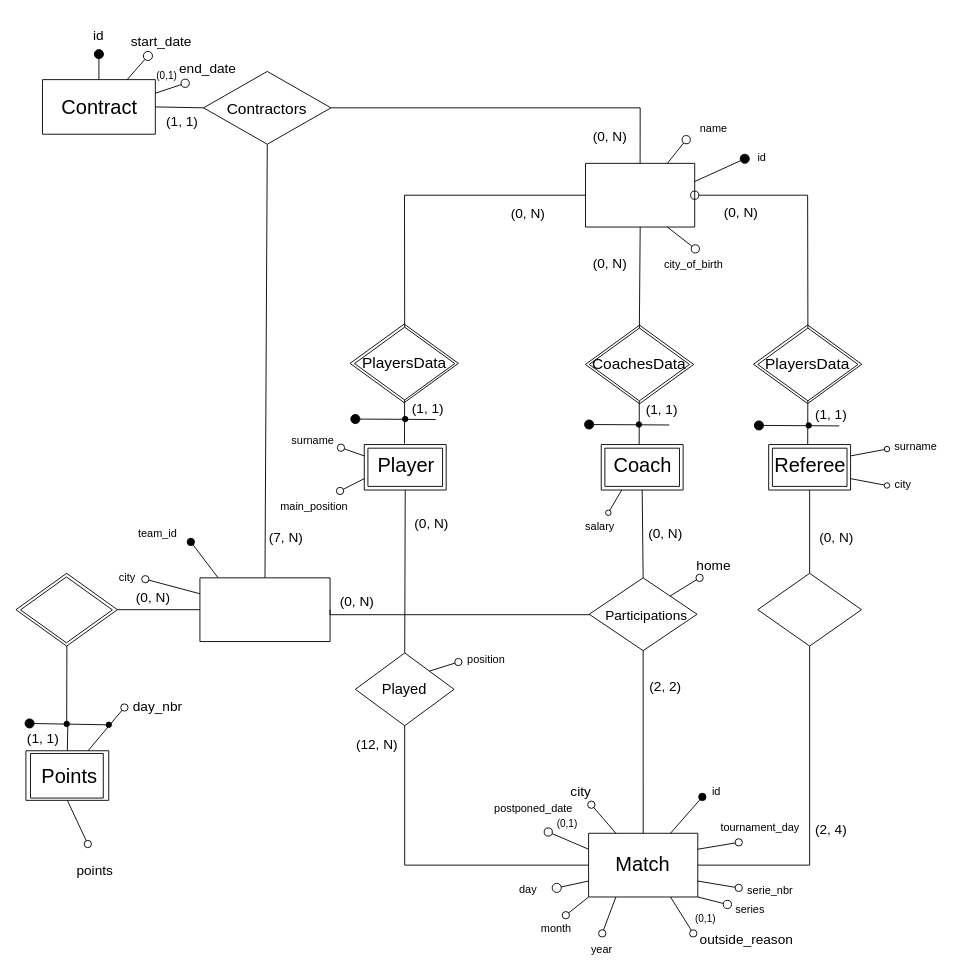
Image size: 959x979. Some labels were removed from this diagram. The shapes that lost their labels are listed below. From the top down, each one's centre as x and y in pixels, then its label:
(x=640, y=194): People
(x=66, y=609): Rankings
(x=264, y=609): Team
(x=809, y=609): Refereeing
